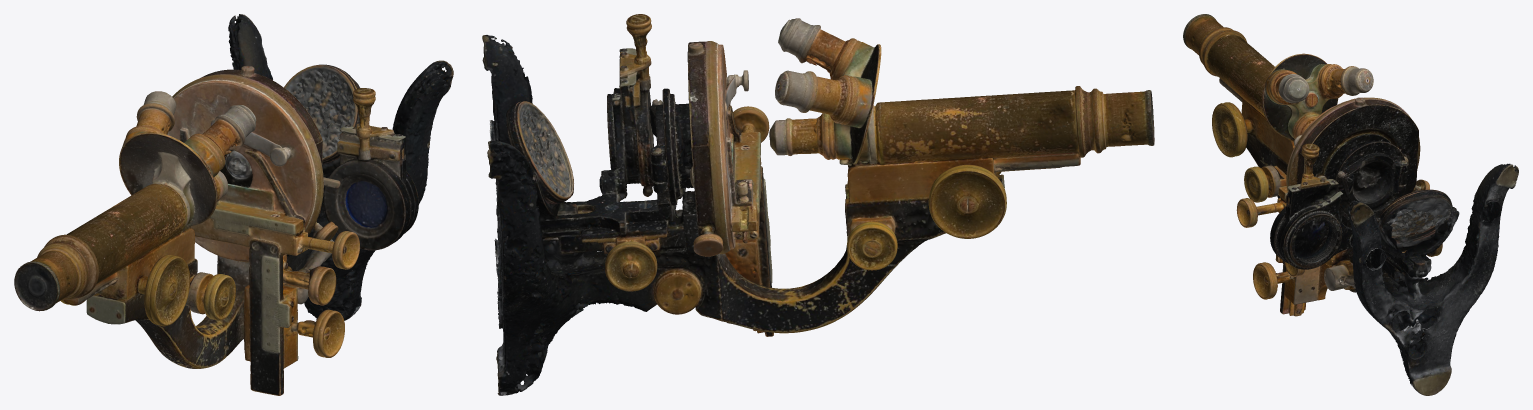
Rendered from Mikroskop_ETHZ_GEOB_0055.glb.
3 renders of one model, left to right at view 1: azimuth 30°, elevation 25°; view 2: azimuth 150°, elevation 25°; view 3: azimuth 270°, elevation 25°, orthographic. The views are drawn at different scales.
Parts seen in each view (by area): view 1: ETHZ_GEOB_0055_ArchivalMaster_CF_20260616; view 2: ETHZ_GEOB_0055_ArchivalMaster_CF_20260616; view 3: ETHZ_GEOB_0055_ArchivalMaster_CF_20260616.
Boxes of the visible parts, x1,y1,x2,y2 form: ETHZ_GEOB_0055_ArchivalMaster_CF_20260616: (14, 14, 453, 395); ETHZ_GEOB_0055_ArchivalMaster_CF_20260616: (482, 14, 1154, 395); ETHZ_GEOB_0055_ArchivalMaster_CF_20260616: (1183, 14, 1518, 395).
Bounding box in the file's own units: 0.3116 × 0.1826 × 0.2231.
1 material, 1 textured.
